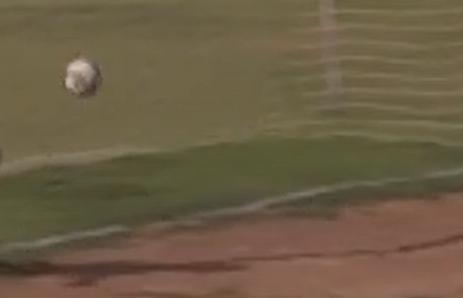ball: (58, 48, 113, 103)
